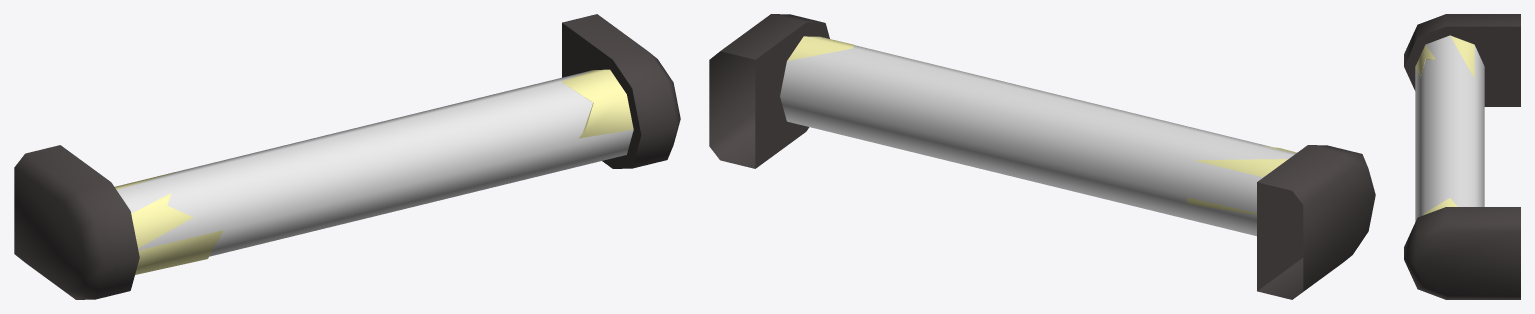
The model's file is lighttube.fbx.
The picture shows the model from 3 angles, left to right: view 1: azimuth 30°, elevation 25°; view 2: azimuth 150°, elevation 25°; view 3: azimuth 270°, elevation 25°; orthographic projection. The views are drawn at different scales.
Visible parts, largest first — view 1: LightTube, LightTubeFrame, LightTubeBroken; view 2: LightTube, LightTubeFrame, LightTubeBroken; view 3: LightTubeFrame, LightTube, LightTubeBroken.
Boxes of the visible parts, x1=… form: LightTube: x1=116, y1=70, x2=633, y2=256; LightTubeFrame: x1=14, y1=14, x2=680, y2=299; LightTubeBroken: x1=115, y1=69, x2=633, y2=274; LightTube: x1=780, y1=45, x2=1295, y2=236; LightTubeFrame: x1=709, y1=14, x2=1375, y2=299; LightTubeBroken: x1=787, y1=36, x2=1296, y2=214; LightTubeFrame: x1=1404, y1=14, x2=1520, y2=299; LightTube: x1=1415, y1=35, x2=1484, y2=221; LightTubeBroken: x1=1415, y1=35, x2=1474, y2=215.
Bounding box in the file's own units: 62.05 × 10.9 × 14.36.
